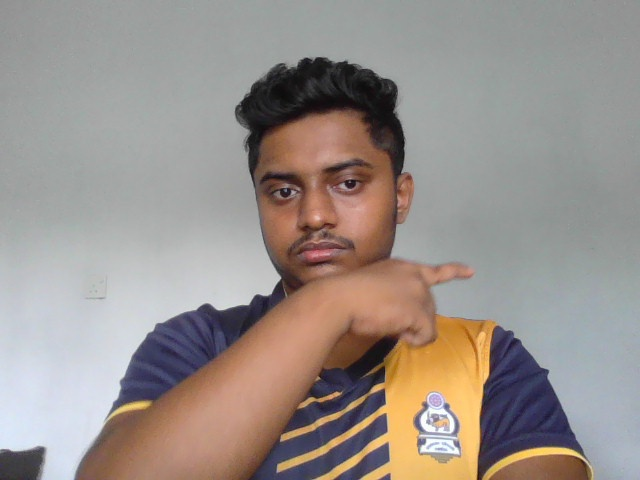Going To: (296, 255, 481, 350)
